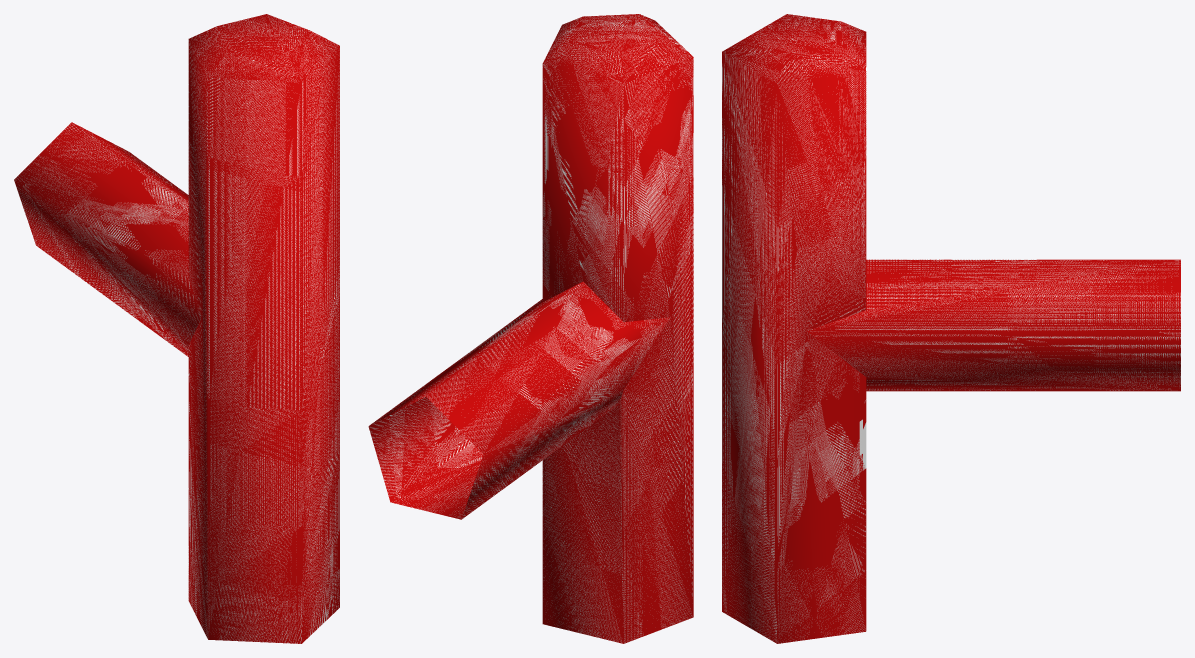
File: original-25.obj
3 renders of one model, left to right at view 1: azimuth 30°, elevation 25°; view 2: azimuth 150°, elevation 25°; view 3: azimuth 270°, elevation 25°, orthographic.
Parts seen in each view (by area): view 1: bpe22_1/bpe22/mesh15/mesh15-geometry#mesh15-geometry; view 2: bpe22_1/bpe22/mesh15/mesh15-geometry#mesh15-geometry; view 3: bpe22_1/bpe22/mesh15/mesh15-geometry#mesh15-geometry.
Boxes of the visible parts, x1,y1,x2,y2 form: bpe22_1/bpe22/mesh15/mesh15-geometry#mesh15-geometry: (14,14,339,643); bpe22_1/bpe22/mesh15/mesh15-geometry#mesh15-geometry: (368,14,693,643); bpe22_1/bpe22/mesh15/mesh15-geometry#mesh15-geometry: (722,14,1180,643).
Bounding box in the file's own units: 0.00971 × 0.0408 × 0.0294.
